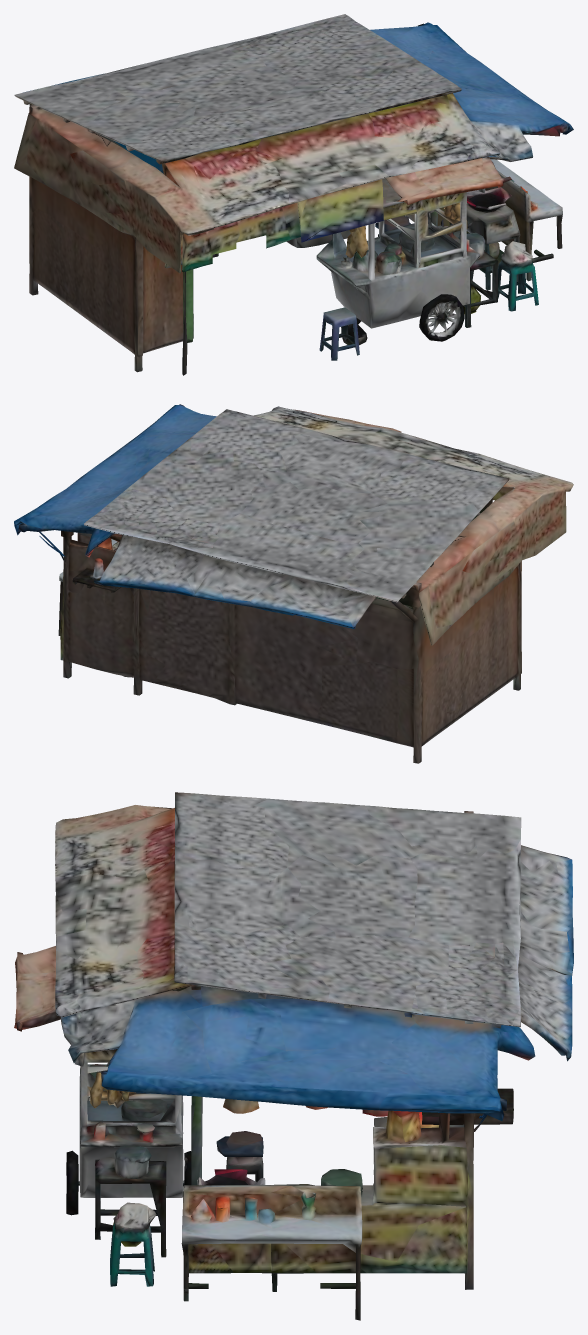
Rendered from warung.glb.
The picture shows the model from 3 angles, top to bottom: view 1: azimuth 30°, elevation 25°; view 2: azimuth 150°, elevation 25°; view 3: azimuth 270°, elevation 25°; orthographic projection. The views are drawn at different scales.
Visible parts, largest first — view 1: tripo_node_a6288710-d552-4bbf-8dfe-8de61e82c760; view 2: tripo_node_a6288710-d552-4bbf-8dfe-8de61e82c760; view 3: tripo_node_a6288710-d552-4bbf-8dfe-8de61e82c760.
Part boxes in pixels (<box>): tripo_node_a6288710-d552-4bbf-8dfe-8de61e82c760: <box>14,14,573,375</box>; tripo_node_a6288710-d552-4bbf-8dfe-8de61e82c760: <box>14,404,573,763</box>; tripo_node_a6288710-d552-4bbf-8dfe-8de61e82c760: <box>14,792,573,1320</box>.
Size of the model in its own units: 1 by 0.4635 by 0.8563.
Materials: 1 (1 with a texture image).
